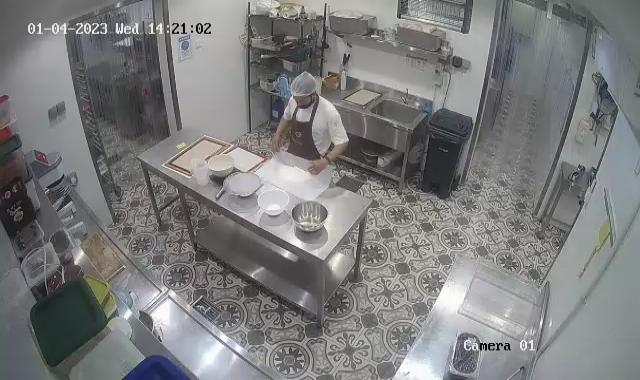hairnet: (291, 71, 317, 107)
